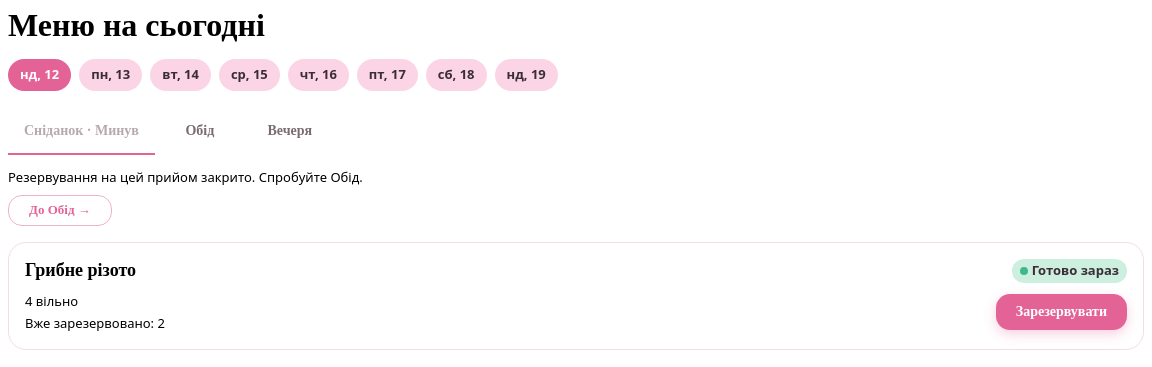
Scenario: MenuPage data states › shows the already-reserved hint for the selected slot and clears it when the day changes
The image size is (1152, 367).
Expected: the text "Вже зарезервовано: 2" is shown, [25, 313, 165, 333]
Click the button "пн, 13".
click(111, 75)  # box [79, 59, 142, 91]
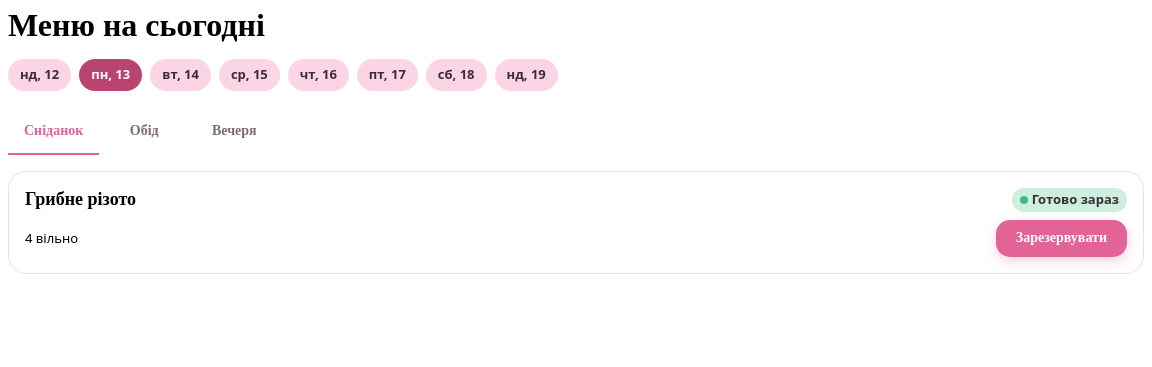
Expected: the text "Вже зарезервовано: 2" is gone
